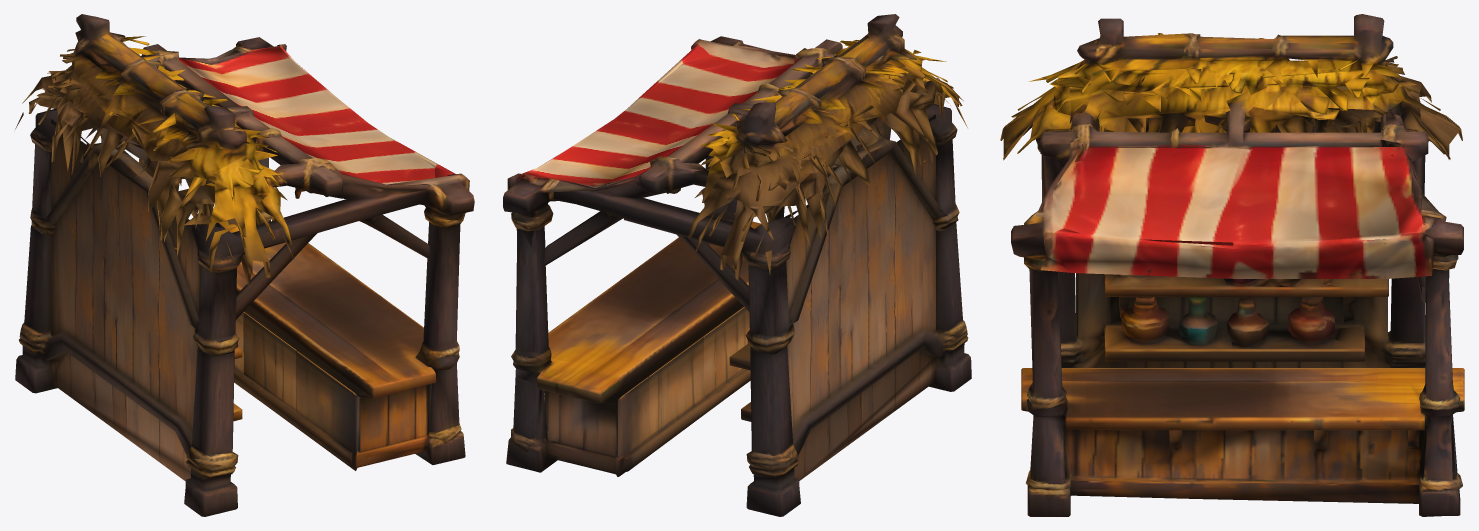
The model's file is market-stall-awning-v3-lod.glb.
3 renders of one model, left to right at view 1: azimuth 30°, elevation 25°; view 2: azimuth 150°, elevation 25°; view 3: azimuth 270°, elevation 25°, orthographic. The views are drawn at different scales.
Parts seen in each view (by area): view 1: tripo_node_5936ca31-0466-43c7-94ca-a3486f93afa6; view 2: tripo_node_5936ca31-0466-43c7-94ca-a3486f93afa6; view 3: tripo_node_5936ca31-0466-43c7-94ca-a3486f93afa6.
Boxes of the visible parts, box(x1,y1,x2,y2) form: tripo_node_5936ca31-0466-43c7-94ca-a3486f93afa6: box(15, 14, 474, 516); tripo_node_5936ca31-0466-43c7-94ca-a3486f93afa6: box(503, 14, 971, 516); tripo_node_5936ca31-0466-43c7-94ca-a3486f93afa6: box(1000, 14, 1464, 516).
Bounding box in the file's own units: 0.728 × 0.9295 × 0.9941.
1 material, 1 textured.
